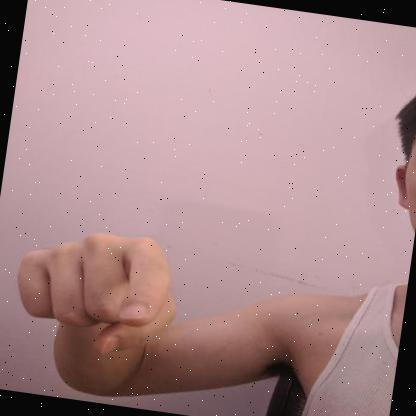Z: (17, 232, 176, 353)
